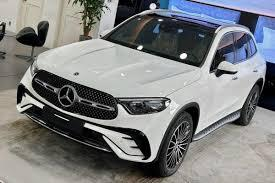mercedes: (52, 79, 80, 107)
